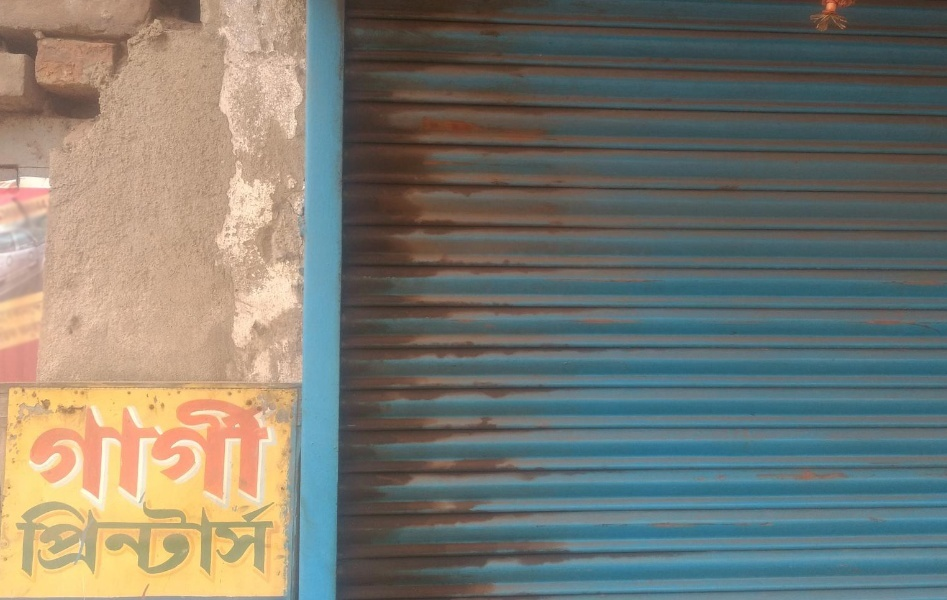text: (17, 190, 32, 379), (33, 190, 48, 379), (3, 190, 16, 379), (49, 190, 61, 379), (33, 395, 48, 507), (49, 395, 64, 507), (65, 395, 80, 507), (81, 395, 96, 507), (97, 395, 112, 507), (113, 395, 128, 507), (129, 395, 144, 507), (145, 395, 160, 507), (161, 395, 176, 507), (177, 395, 192, 507), (193, 395, 208, 507), (209, 395, 224, 507), (225, 395, 240, 507), (241, 395, 256, 507), (257, 395, 272, 507), (17, 499, 32, 581), (33, 499, 48, 581), (49, 499, 64, 581), (65, 499, 80, 581), (81, 499, 96, 581), (97, 499, 112, 581), (113, 499, 128, 581), (129, 499, 144, 581), (145, 499, 160, 581), (161, 499, 176, 581), (177, 499, 192, 581), (193, 499, 208, 581), (209, 499, 224, 581), (225, 499, 240, 581), (241, 499, 256, 581), (257, 499, 272, 581), (273, 499, 276, 581), (273, 395, 275, 507)
